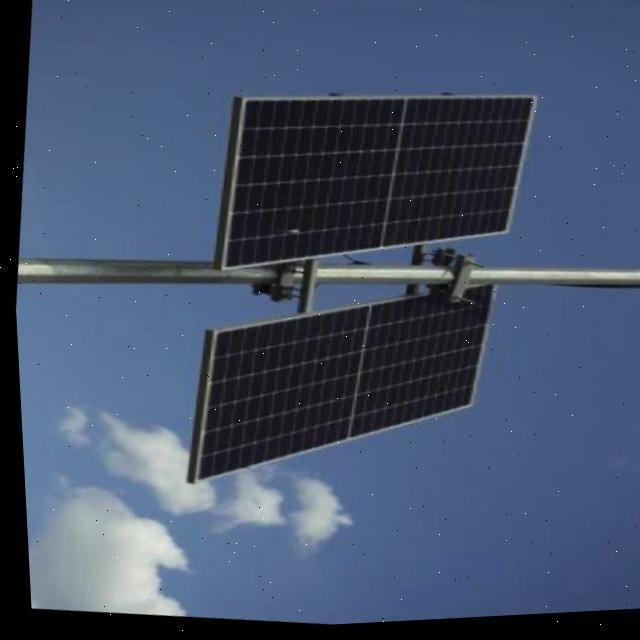Normal Solar Panel: (182, 264, 498, 511), (210, 72, 544, 304)
